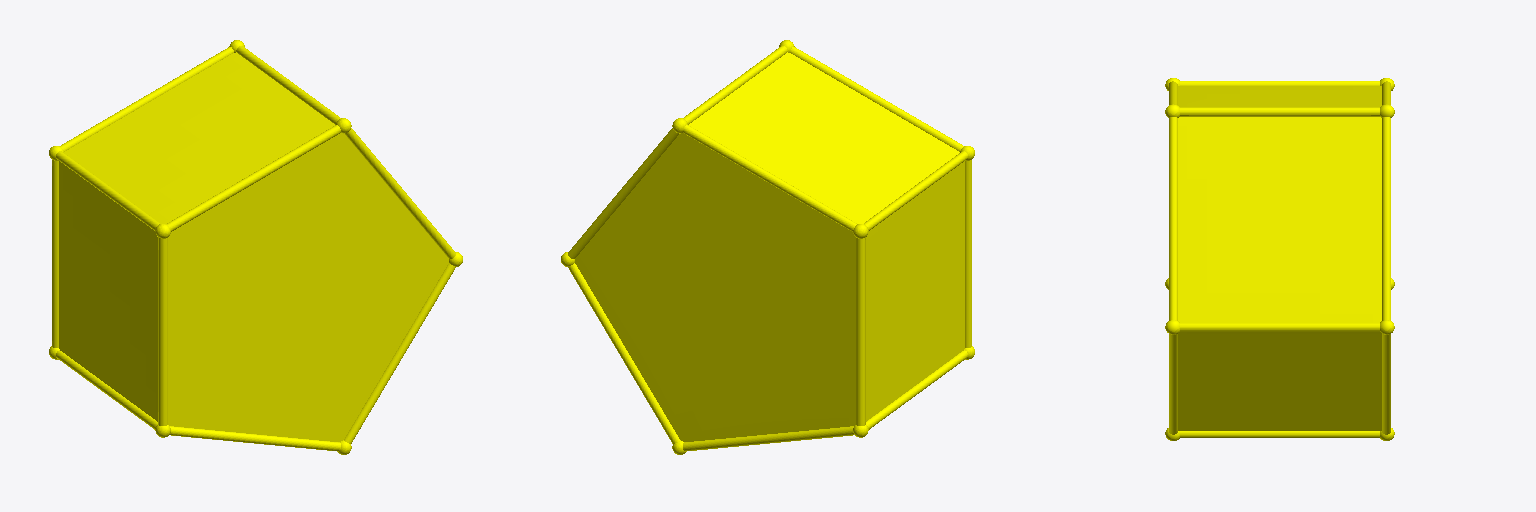
File: pent_yellow.obj
3 renders of one model, left to right at view 1: azimuth 30°, elevation 25°; view 2: azimuth 150°, elevation 25°; view 3: azimuth 270°, elevation 25°, orthographic.
Parts seen in each view (by area): view 1: pent; view 2: pent; view 3: pent.
Part boxes in pixels (bbox=[...]): pent: bbox=[49, 40, 462, 454]; pent: bbox=[561, 40, 974, 454]; pent: bbox=[1165, 78, 1394, 440].
Bounding box in the file's own units: 8.57 × 9 × 5.58.